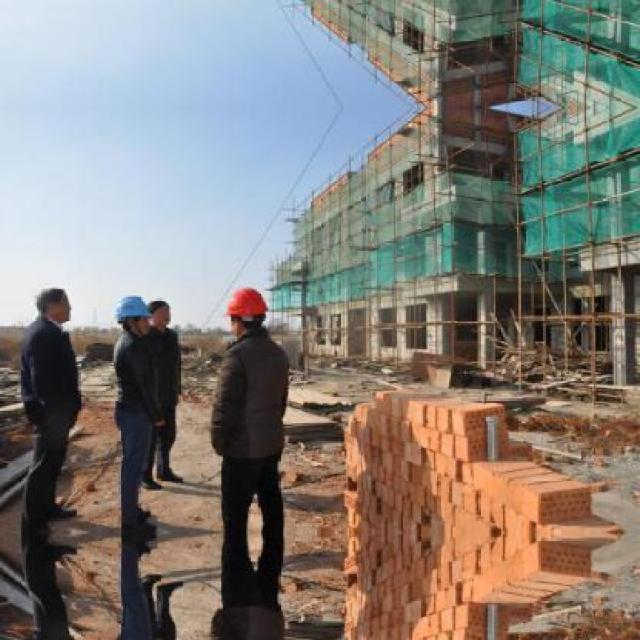helmet: (218, 284, 272, 322), (104, 289, 154, 325)
